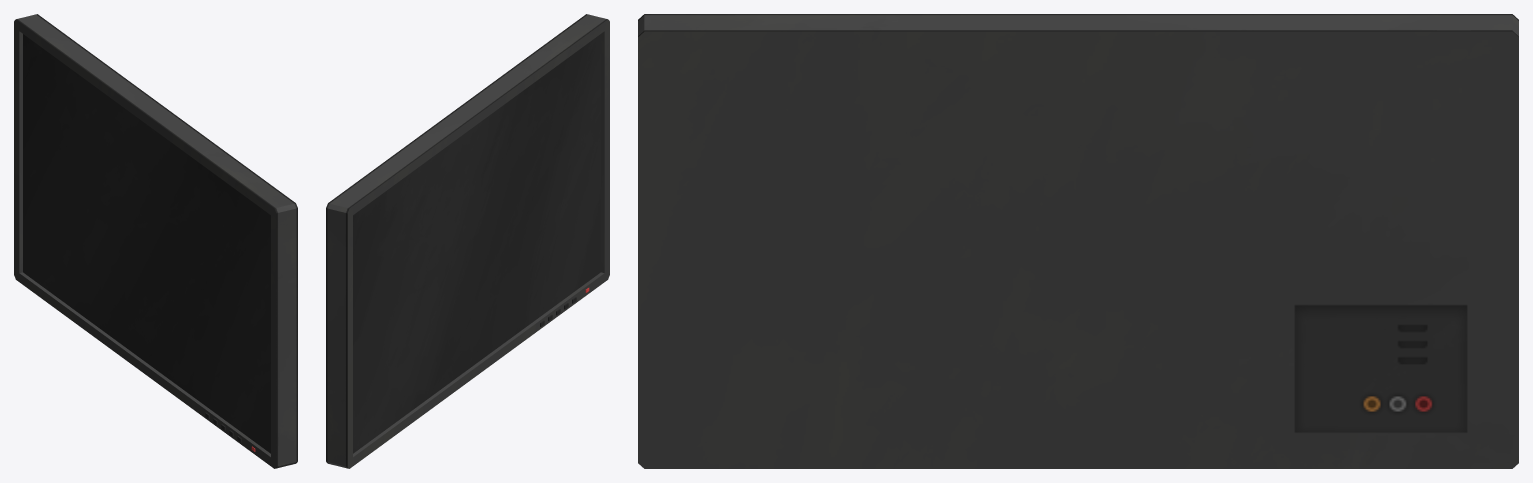
File: tv_noBase.fbx
3 renders of one model, left to right at view 1: azimuth 30°, elevation 25°; view 2: azimuth 150°, elevation 25°; view 3: azimuth 270°, elevation 25°, orthographic. The views are drawn at different scales.
Visible parts, largest first — view 1: polySurface1579; view 2: polySurface1579; view 3: polySurface1579.
Boxes of the visible parts, x1,y1,x2,y2 form: polySurface1579: [14, 14, 297, 468]; polySurface1579: [326, 14, 609, 468]; polySurface1579: [638, 14, 1518, 468].
Size of the model in its own units: 0.0655 by 0.7183 by 1.31.
